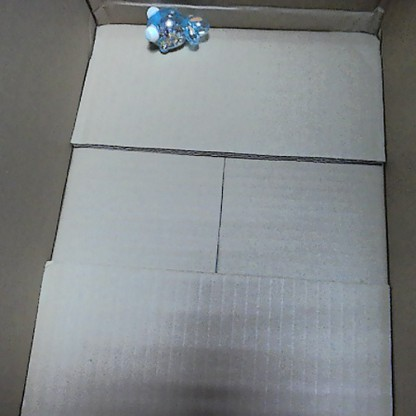bluefish: (140, 0, 214, 54)
